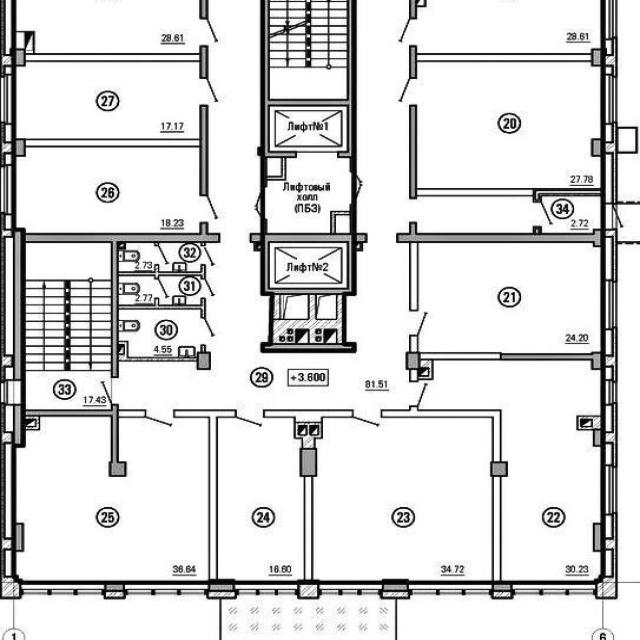Bathrooms: (119, 311, 198, 357), (159, 277, 200, 304), (159, 244, 200, 270), (119, 244, 154, 270), (120, 277, 155, 303)
Corridors: (120, 0, 409, 409), (268, 158, 350, 232), (418, 197, 531, 231), (543, 197, 600, 233)
Doors: (604, 204, 629, 230), (394, 78, 418, 104), (99, 377, 120, 405), (145, 409, 174, 429), (395, 19, 418, 44), (200, 78, 221, 105), (532, 202, 555, 226), (352, 410, 381, 429), (200, 19, 221, 45), (200, 196, 221, 222), (236, 409, 263, 429), (251, 187, 267, 218), (409, 311, 430, 334), (410, 382, 430, 406), (200, 317, 217, 345), (351, 173, 365, 203), (155, 278, 173, 298), (202, 246, 218, 268), (202, 278, 218, 297), (155, 246, 171, 264), (298, 152, 338, 158), (409, 199, 418, 222)
LBwalls: (17, 514, 619, 600), (2, 227, 27, 448), (0, 448, 17, 600), (600, 125, 617, 203), (600, 405, 618, 463), (600, 330, 618, 380), (600, 230, 617, 281), (600, 40, 618, 76)
Offices: (422, 360, 599, 578), (17, 417, 208, 580), (315, 418, 490, 580), (419, 63, 600, 188), (420, 244, 600, 352), (18, 149, 198, 232), (18, 62, 199, 137), (220, 420, 303, 580), (418, 0, 600, 52), (17, 0, 198, 52)
Stairs: (26, 243, 111, 408), (268, 1, 347, 98)
Walls: (26, 222, 221, 378), (381, 406, 502, 581), (408, 103, 601, 204), (394, 220, 600, 311), (261, 0, 358, 188), (249, 203, 369, 354), (16, 104, 209, 196), (263, 408, 354, 580), (173, 409, 236, 579), (408, 335, 600, 383), (27, 403, 146, 477), (409, 45, 601, 78), (18, 46, 208, 78), (199, 0, 209, 18), (408, 1, 418, 18)
Windows: (20, 583, 104, 595), (124, 585, 208, 597), (409, 584, 493, 596), (513, 586, 595, 598), (601, 280, 618, 330), (600, 76, 616, 124), (236, 585, 299, 597), (601, 465, 616, 515), (320, 585, 381, 597), (2, 164, 15, 214), (1, 75, 14, 124), (601, 0, 615, 41), (601, 380, 616, 405)
